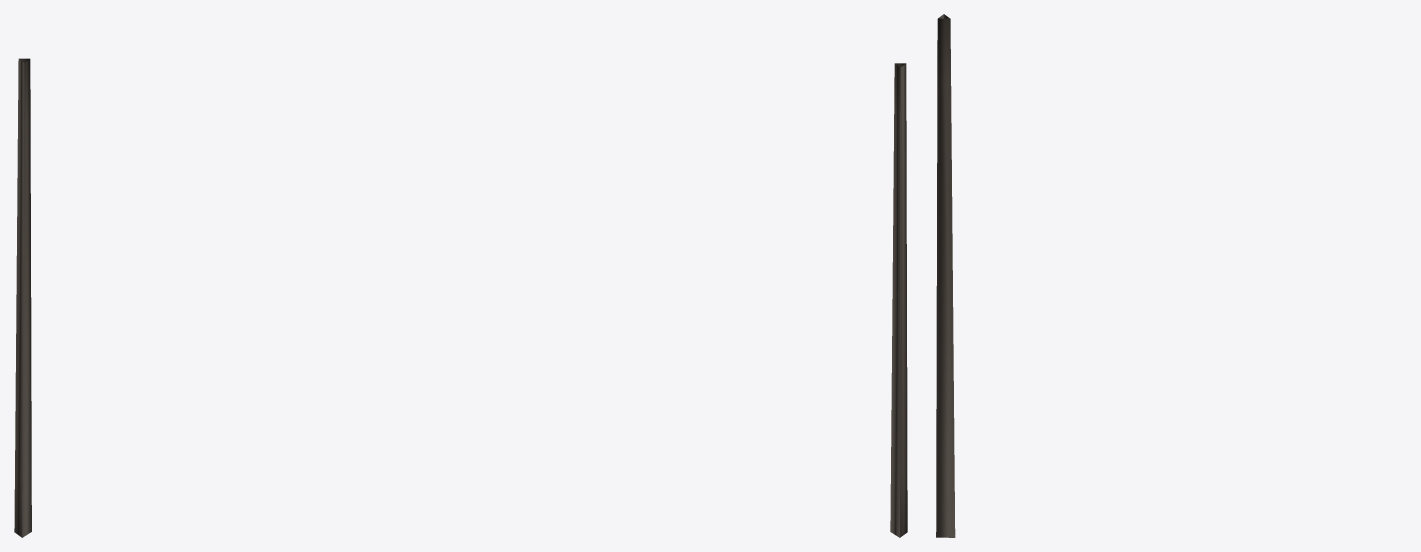
3 views of the same model, side by side, from view 1: azimuth 30°, elevation 25°; view 2: azimuth 150°, elevation 25°; view 3: azimuth 330°, elevation 25° (orthographic). The views are drawn at different scales.
Visible parts, largest first — view 1: T1L3M005_21; view 2: T1L3M005_21; view 3: T1L3M005_21.
Part boxes in pixels (x1=…): T1L3M005_21: x1=14, y1=58, x2=31, y2=537; T1L3M005_21: x1=890, y1=63, x2=907, y2=537; T1L3M005_21: x1=936, y1=14, x2=955, y2=537.
Size of the model in its own units: 1.73 by 1.83 by 0.2752.
